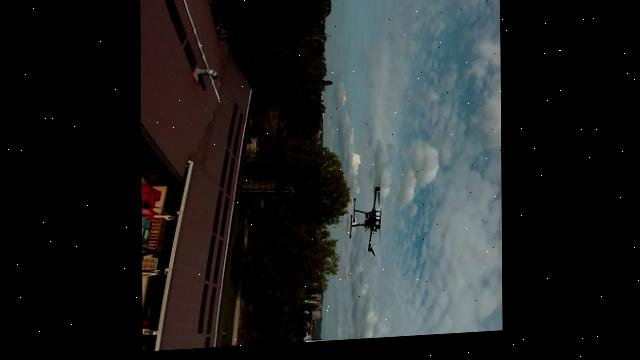drone: (339, 167, 400, 276)
